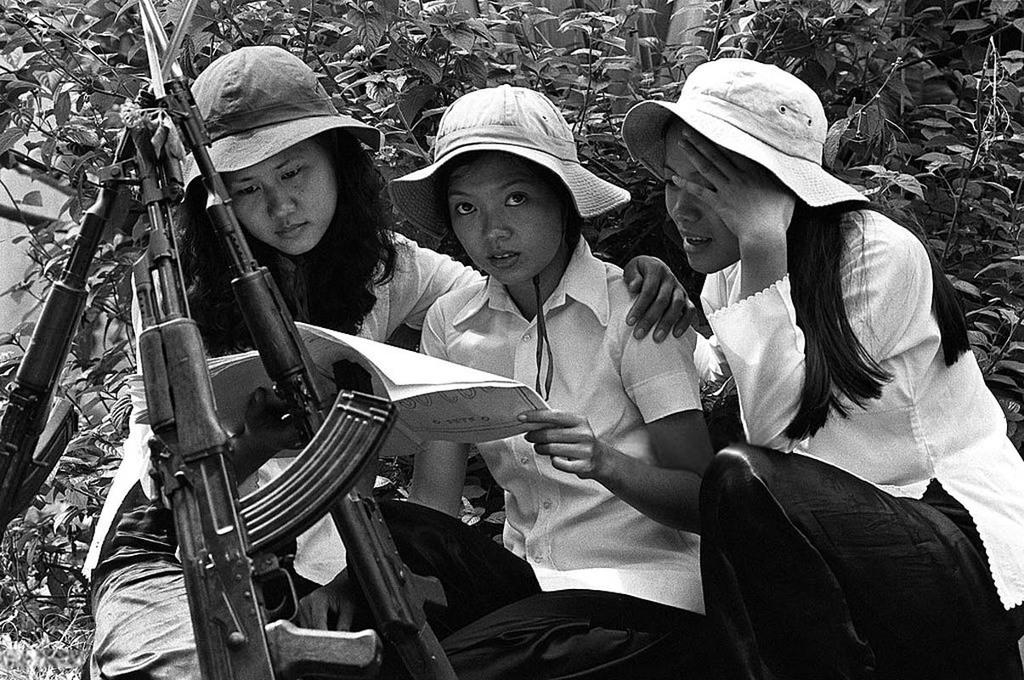Hat: (392, 79, 630, 393), (618, 54, 870, 214), (176, 42, 384, 190)
